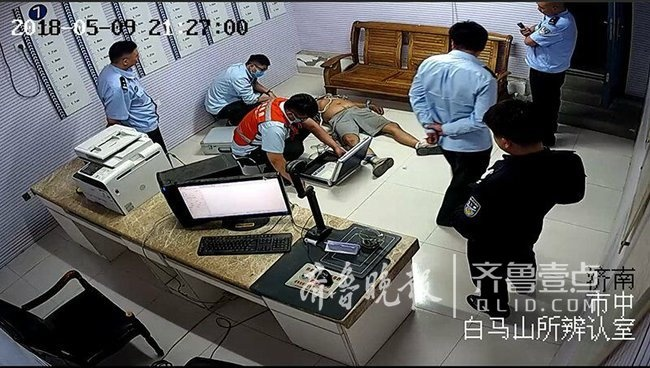falling: (299, 83, 436, 162)
